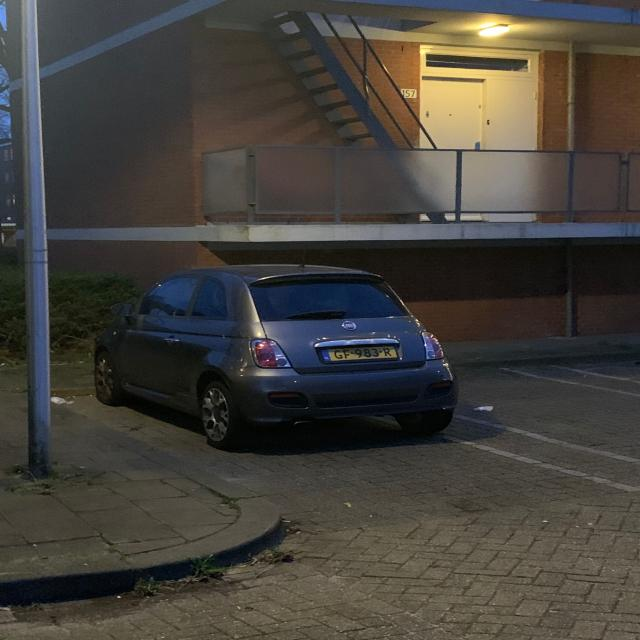plate: (320, 343, 401, 363)
